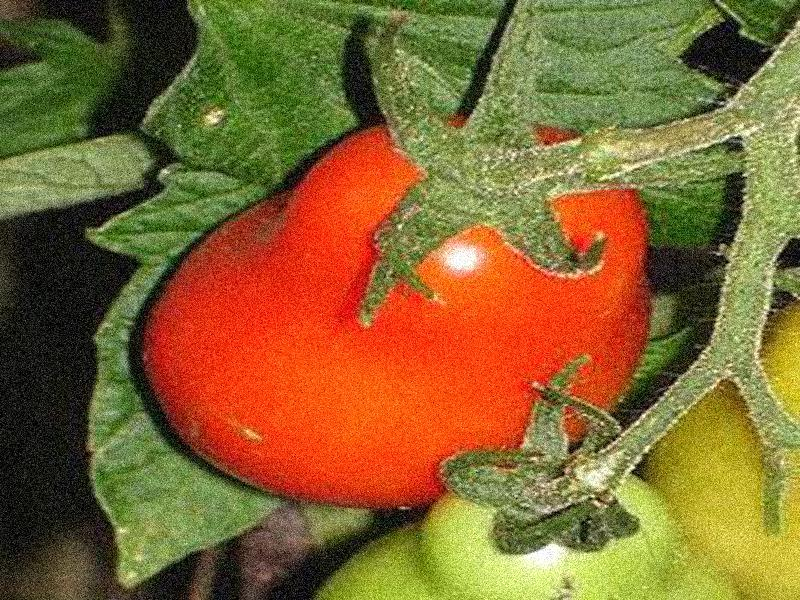Tomato: (140, 117, 645, 507)
